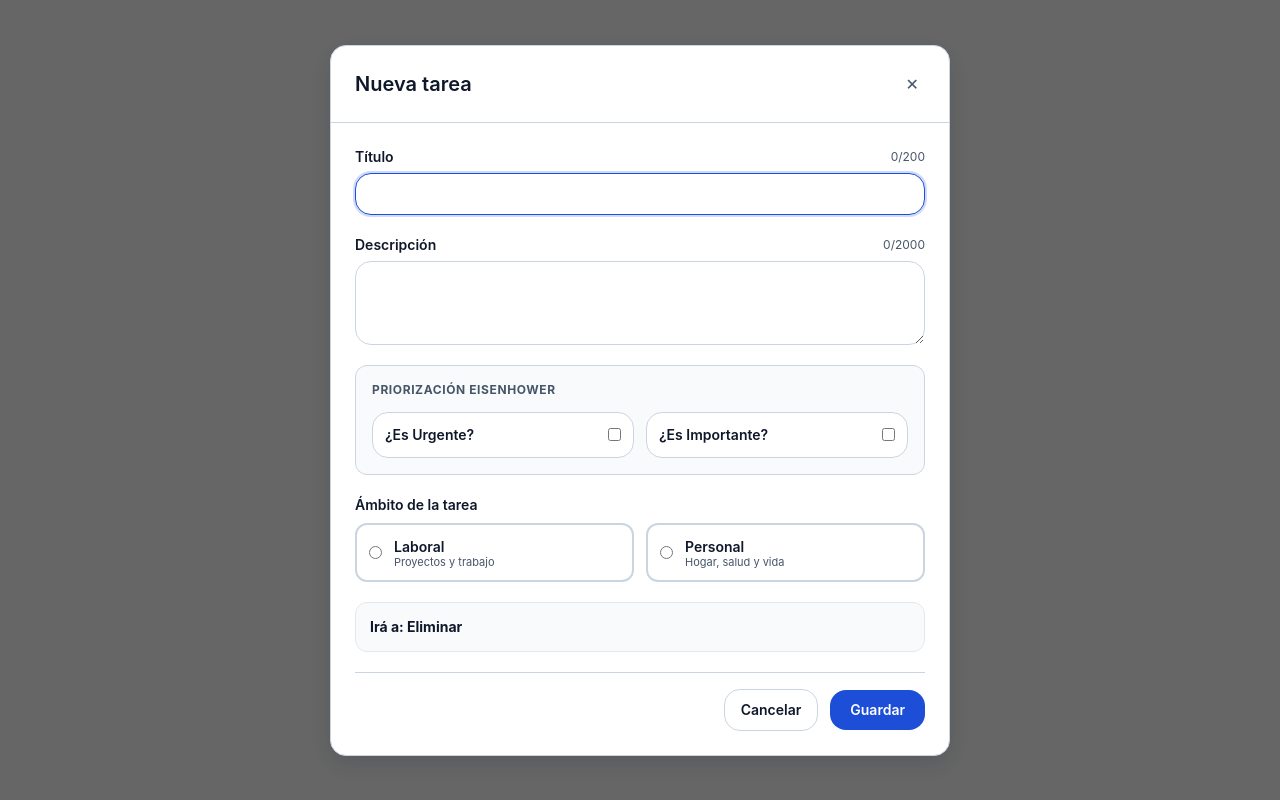
Test: <TaskForm> (modo crear) › actualiza la vista previa "Irá a: …" al cambiar urgente/importante
This screenshot has width=1280, height=800.
Check: the text "Irá a: Eliminar" is shown, box [370, 616, 462, 636]
Click the checkbox named "Marcar como urgente" at (614, 434), box [608, 428, 621, 441]
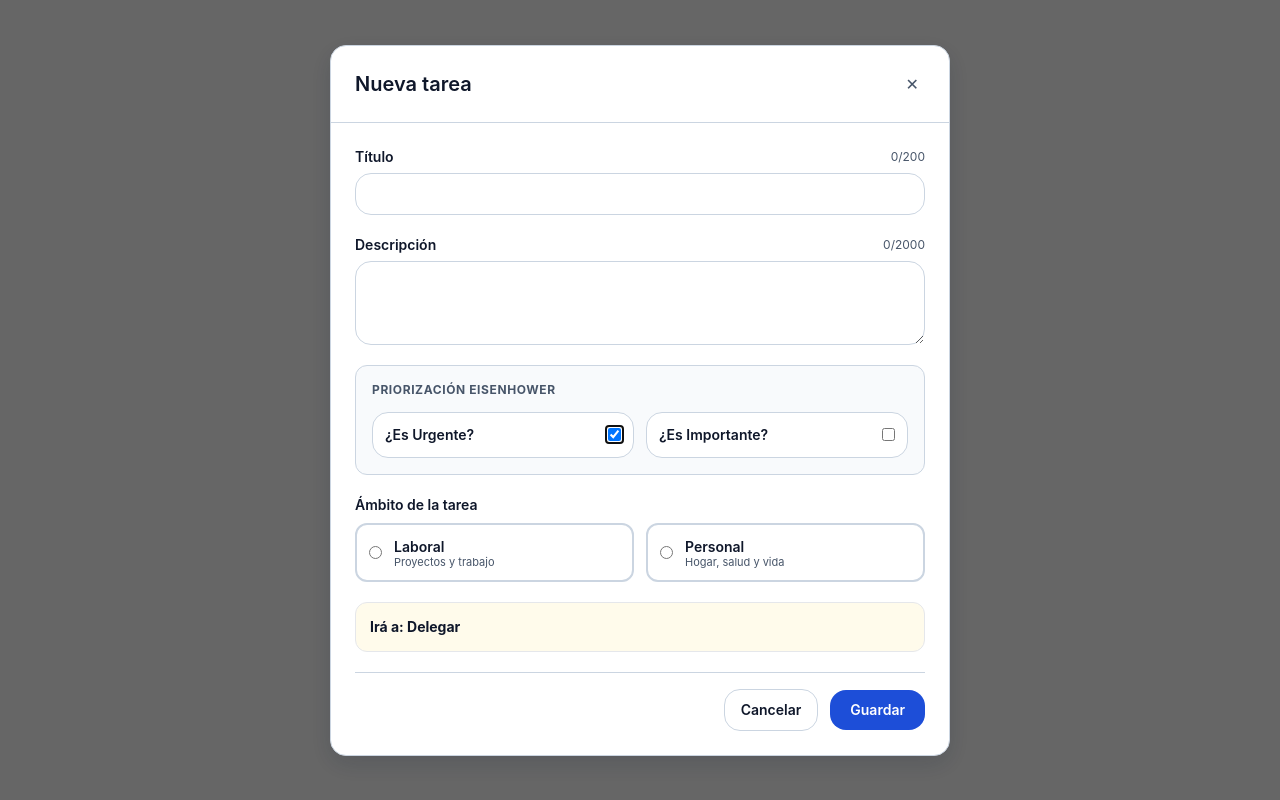
Click the checkbox named "Marcar como importante" at (888, 434), box [882, 428, 895, 441]
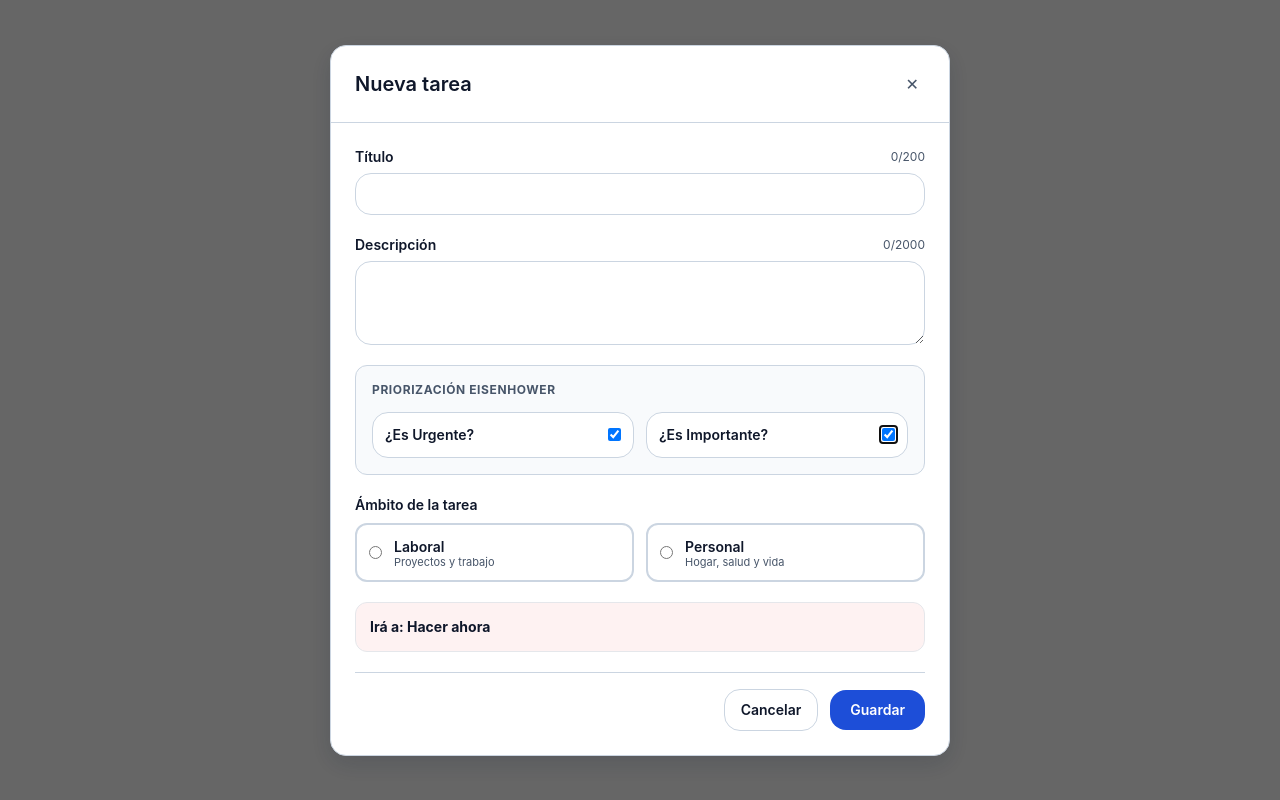
Check: the text "Irá a: Hacer ahora" is shown, box [370, 616, 490, 636]
